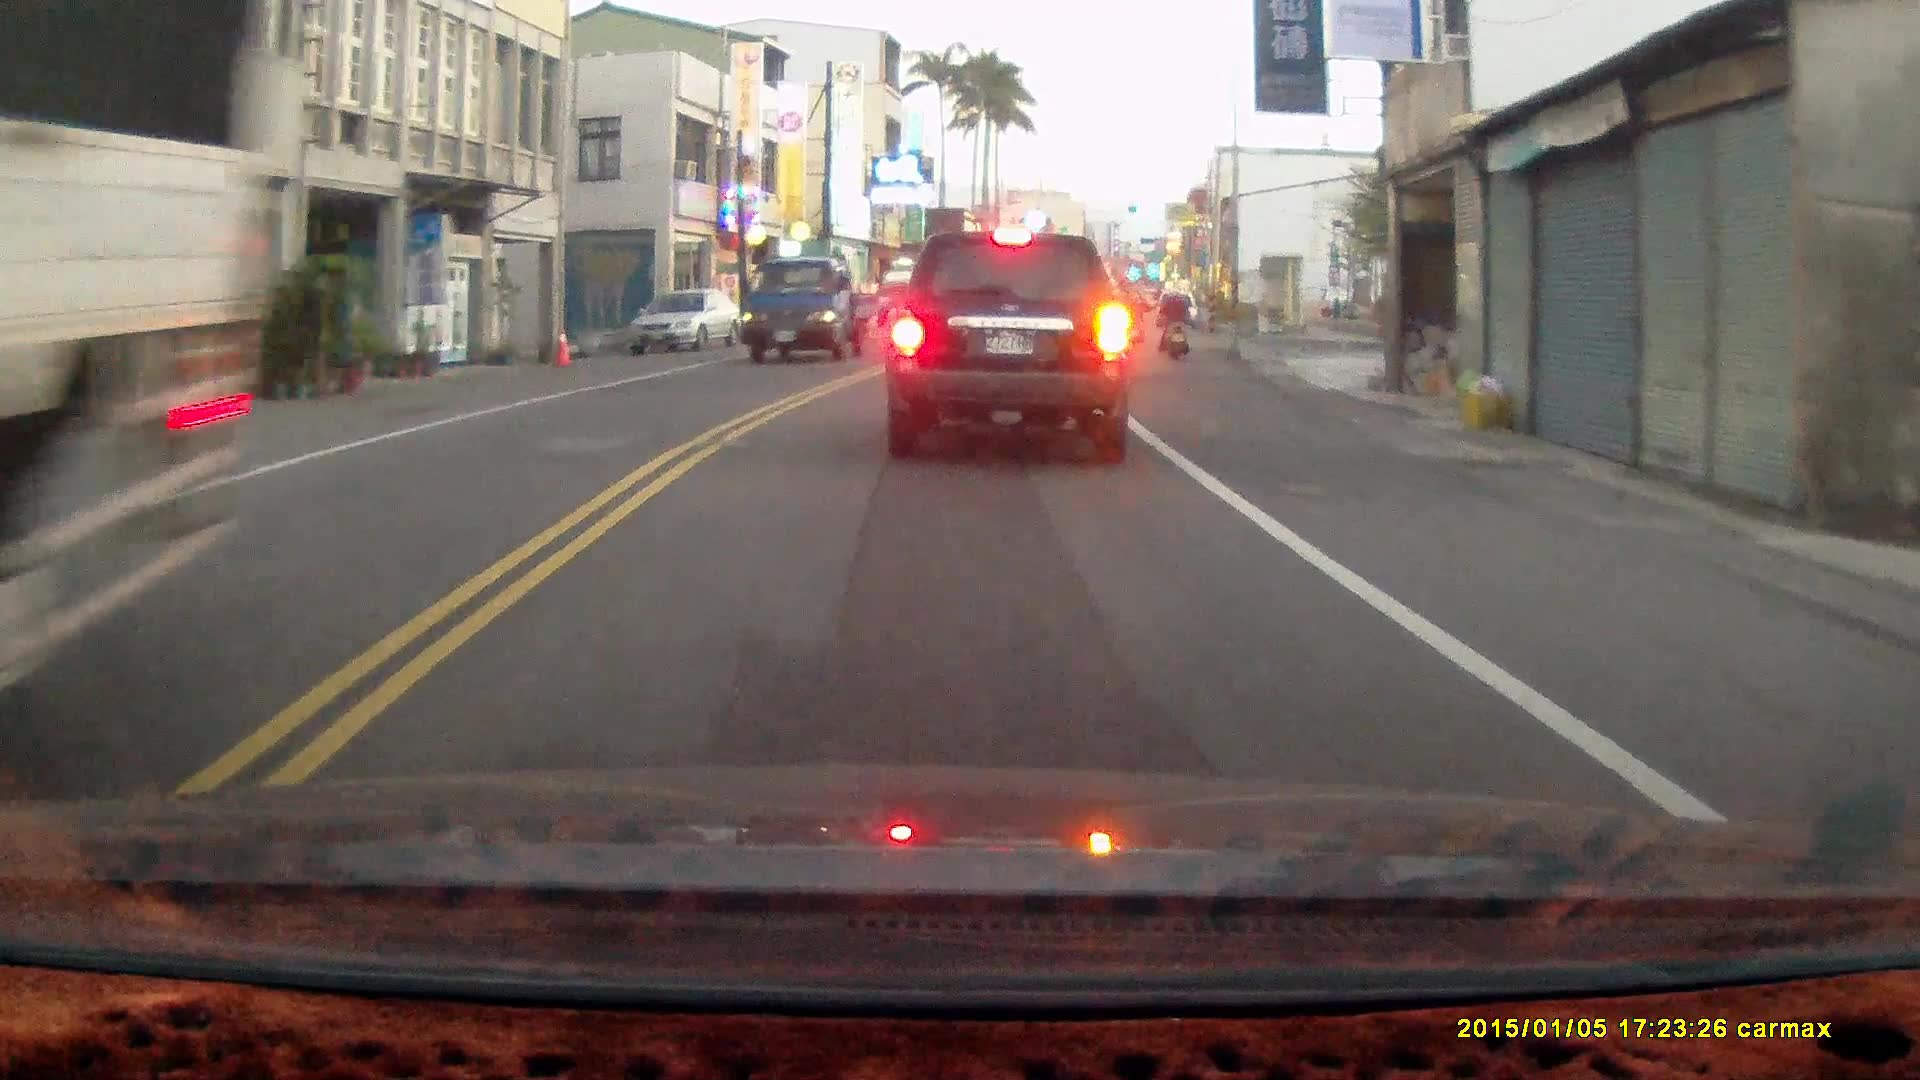rider: (1157, 280, 1188, 361), (1119, 285, 1146, 351)
vehicle: (1, 9, 310, 798), (883, 226, 1134, 462), (736, 256, 871, 367), (624, 287, 747, 354)
